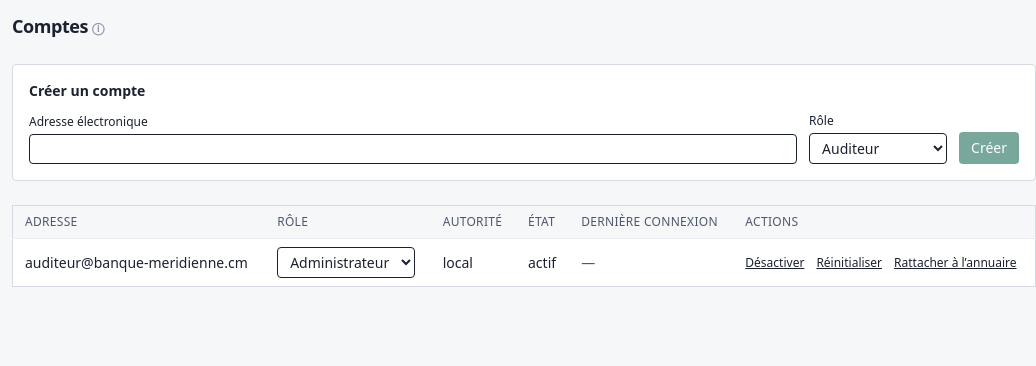
Test case: comptes et annuaire › n’insiste pas quand l’administrateur refuse d’assumer
The image size is (1036, 366).
Click the button "Rattacher à l’annuaire" at (955, 262), box [894, 254, 1016, 270]
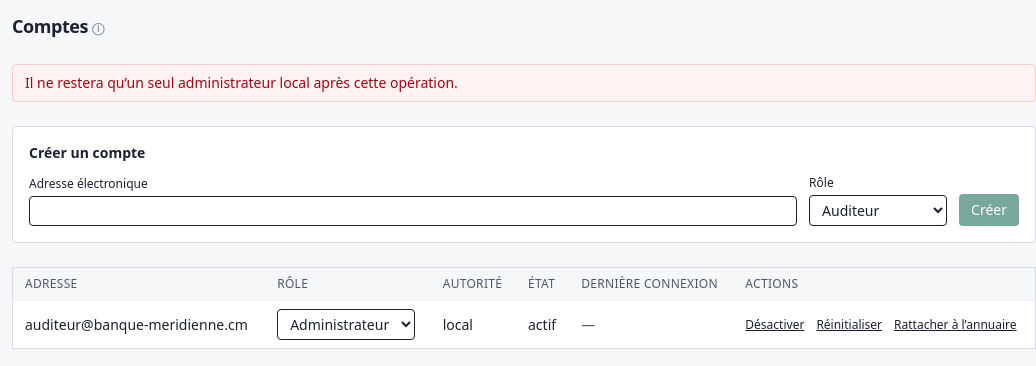
expect the message shows "un seul administrateur local": met, box [25, 73, 458, 92]
